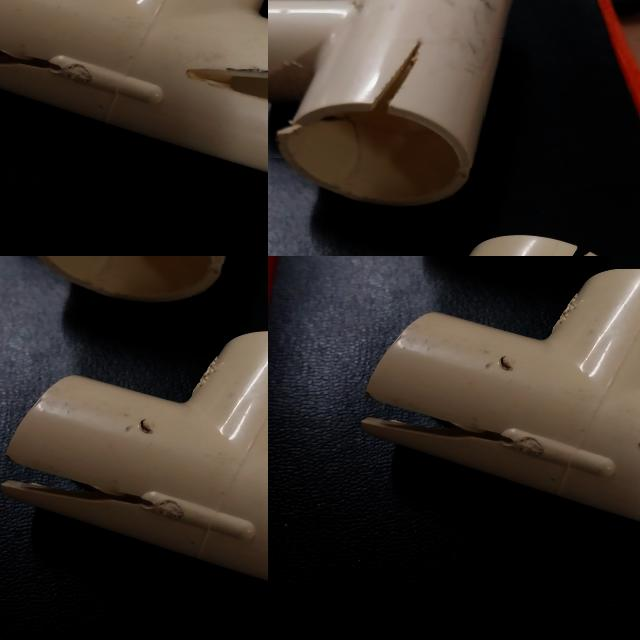Defective: (484, 40, 554, 162), (362, 390, 509, 446)
L Joint: (268, 39, 640, 256)
T Joint: (361, 270, 640, 526)
